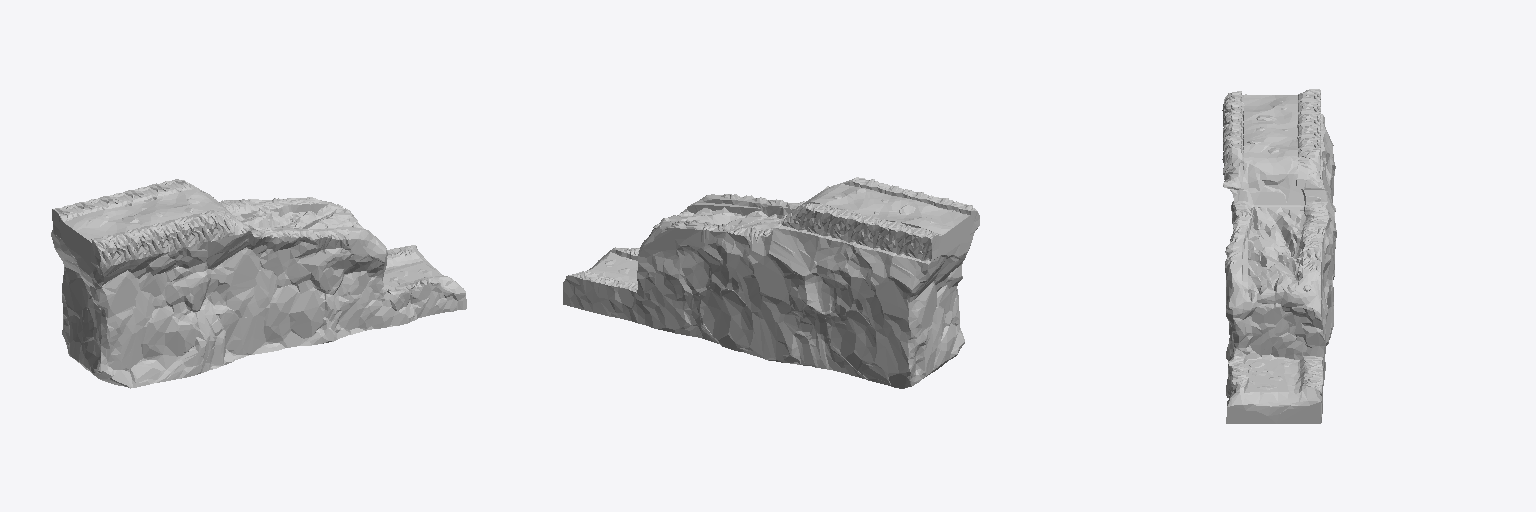
The model's file is bajada_low_uv.obj.
3 renders of one model, left to right at view 1: azimuth 30°, elevation 25°; view 2: azimuth 150°, elevation 25°; view 3: azimuth 270°, elevation 25°, orthographic.
Parts seen in each view (by area): view 1: bajada_low2:Group14900; view 2: bajada_low2:Group14900; view 3: bajada_low2:Group14900.
Boxes of the visible parts, x1=… form: bajada_low2:Group14900: x1=51, y1=179, x2=466, y2=388; bajada_low2:Group14900: x1=563, y1=177, x2=979, y2=388; bajada_low2:Group14900: x1=1222, y1=89, x2=1336, y2=423.
Size of the model in its own units: 223 by 90.65 by 60.33.